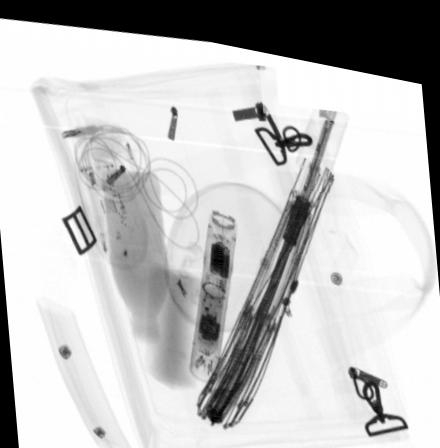Baton: (188, 200, 238, 377)
